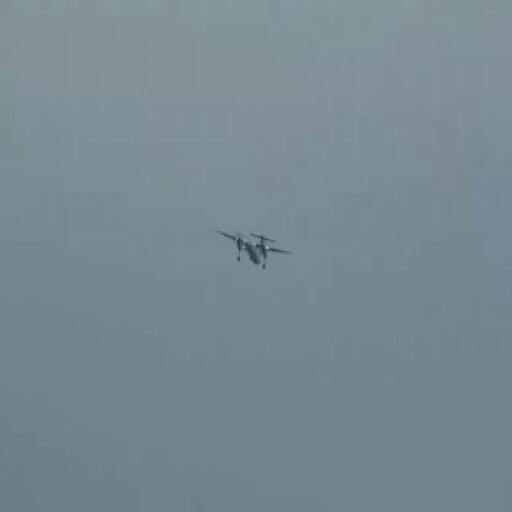aircraft: (218, 229, 295, 269)
